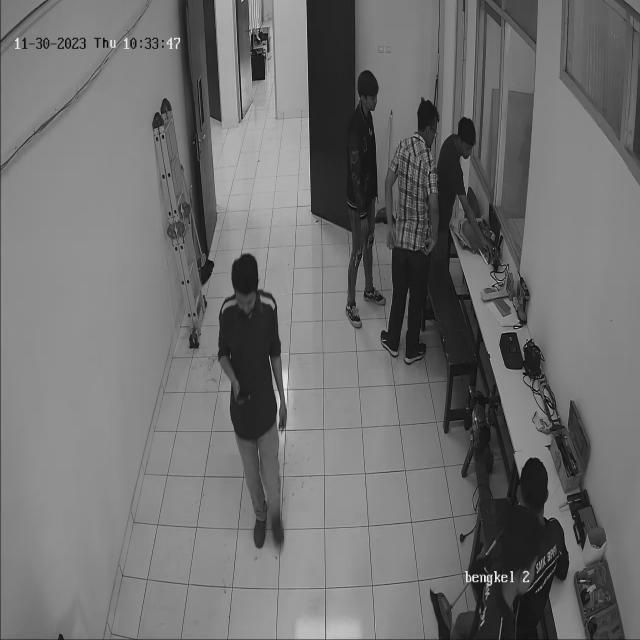person: (222, 256, 291, 562), (390, 88, 436, 376), (348, 68, 382, 333)
